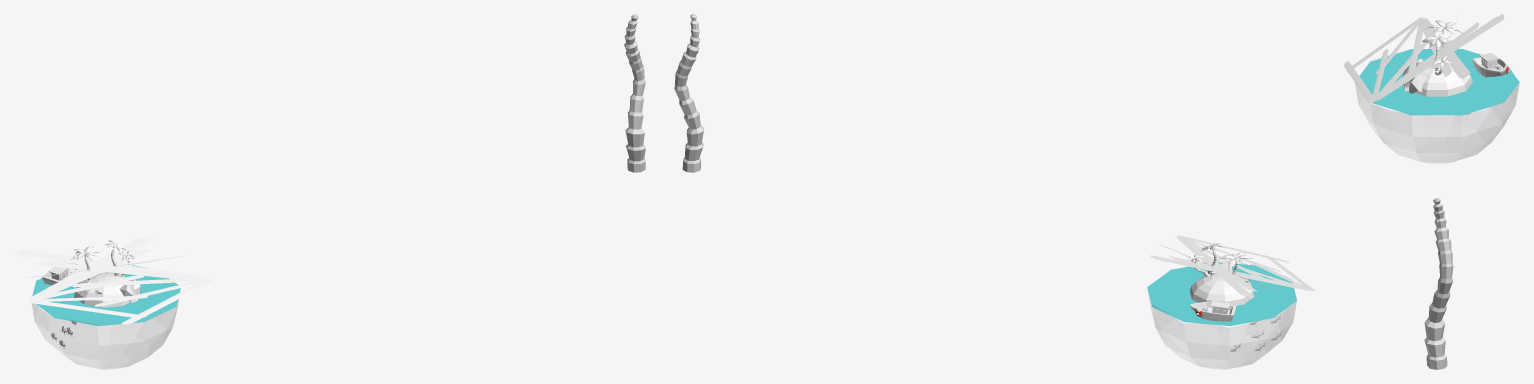
File: Island.glb
3 renders of one model, left to right at view 1: azimuth 30°, elevation 25°; view 2: azimuth 150°, elevation 25°; view 3: azimuth 270°, elevation 25°, orthographic. The views are drawn at different scales.
Visible parts, largest first — view 1: hlubina, hladina, palma4, lanko1.009, lanko1.004, ostrov, lanko1.006, lanko1.001; view 2: hlubina, hladina, palma4, ostrov, lanko1.009, lanko1.004, Cube; view 3: hlubina, hladina, palma4, ostrov, lanko1.009, lanko1.004, lanko1.006, Cube, lanko1.001, lanko1.008, lanko1.002, lanko1.007 (+2 smaller).
Part boxes in pixels (left/top/right/bottom): hlubina: left=32, top=299, right=178, bottom=369; hladina: left=31, top=265, right=180, bottom=325; palma4: left=624, top=14, right=645, bottom=172; lanko1.009: left=14, top=249, right=212, bottom=324; lanko1.004: left=28, top=237, right=154, bottom=317; ostrov: left=74, top=272, right=129, bottom=307; lanko1.006: left=20, top=255, right=203, bottom=280; lanko1.001: left=30, top=240, right=152, bottom=298; hlubina: left=1148, top=262, right=1296, bottom=369; hladina: left=1147, top=262, right=1296, bottom=325; palma4: left=674, top=14, right=704, bottom=172; ostrov: left=1190, top=273, right=1254, bottom=305; lanko1.009: left=1176, top=235, right=1289, bottom=297; lanko1.004: left=1149, top=255, right=1315, bottom=291; Cube: left=1190, top=302, right=1236, bottom=321; hlubina: left=1355, top=50, right=1519, bottom=163; hladina: left=1356, top=49, right=1519, bottom=115; palma4: left=1424, top=198, right=1453, bottom=369; ostrov: left=1403, top=61, right=1472, bottom=96; lanko1.009: left=1344, top=14, right=1504, bottom=103; lanko1.004: left=1347, top=17, right=1470, bottom=78; lanko1.006: left=1378, top=16, right=1496, bottom=99; Cube: left=1472, top=56, right=1507, bottom=77; lanko1.001: left=1420, top=18, right=1460, bottom=78; lanko1.008: left=1372, top=14, right=1501, bottom=102; lanko1.002: left=1408, top=25, right=1423, bottom=72; lanko1.007: left=1378, top=42, right=1427, bottom=94.
Size of the model in its own units: 9.48 by 3.16 by 2.13.
19 materials, 1 textured.
